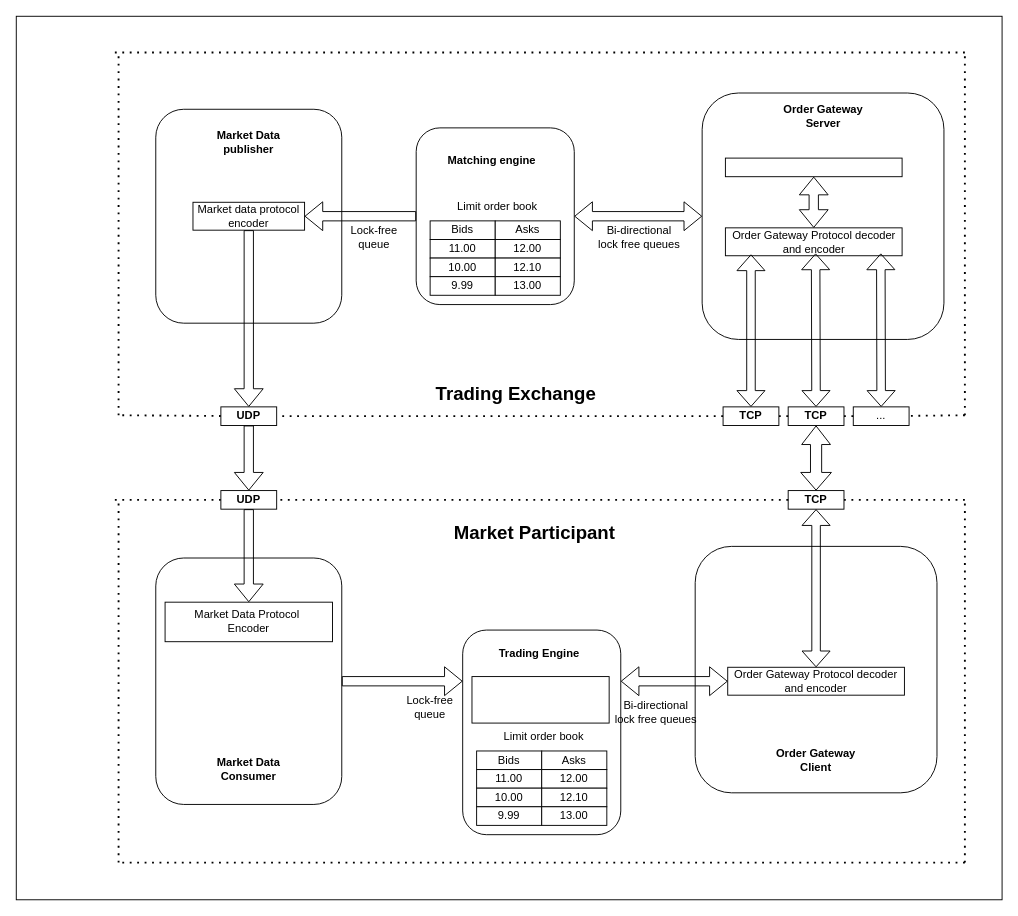
This 1018x916 diagram has some shape labels left out. The shapes that lost their labels are listed below. From the top down, each one's centre as x and y in pixels, then its label:
At pixel 813 167: "FIFO Sequencer".
At pixel 540 699: "Trading Algorithm".
